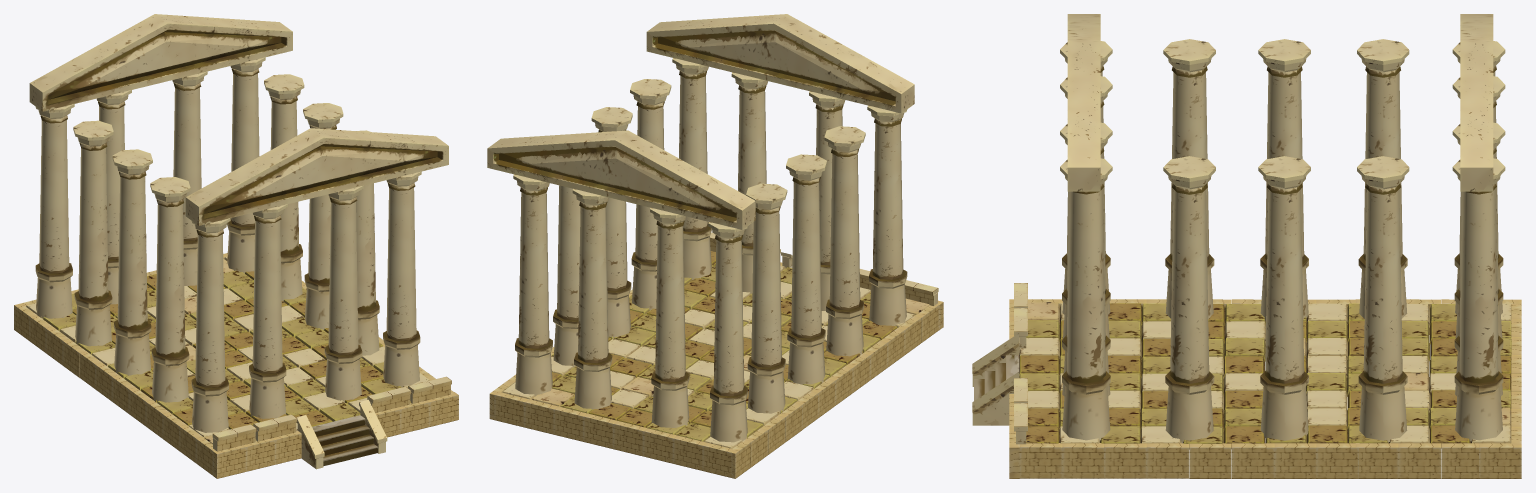
Rendered from Rome_Village_Buildings_11.FBX.
3 views of the same model, side by side, from view 1: azimuth 30°, elevation 25°; view 2: azimuth 150°, elevation 25°; view 3: azimuth 270°, elevation 25° (orthographic). The views are drawn at different scales.
Parts seen in each view (by area): view 1: Rome_Village_Buildings_11; view 2: Rome_Village_Buildings_11; view 3: Rome_Village_Buildings_11.
Boxes of the visible parts, x1=… form: Rome_Village_Buildings_11: x1=14, y1=14, x2=458, y2=478; Rome_Village_Buildings_11: x1=487, y1=14, x2=943, y2=478; Rome_Village_Buildings_11: x1=972, y1=14, x2=1521, y2=478.
Size of the model in its own units: 888 by 974 by 1317.
